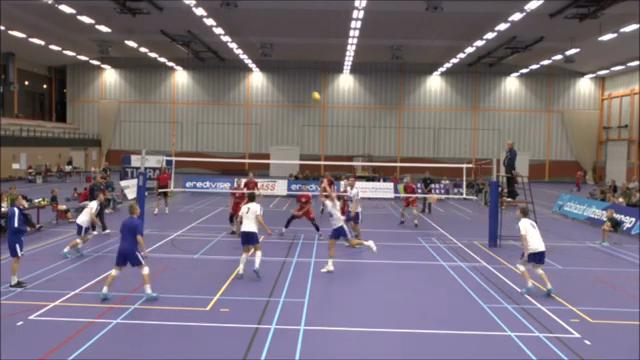alzata: (315, 178, 378, 275)
